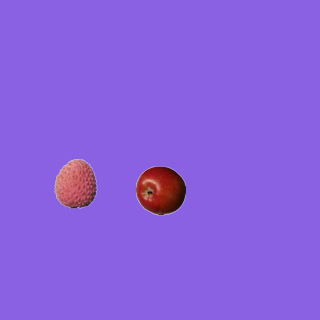Apple Braeburn: (135, 165, 185, 215)
Lychee: (50, 158, 100, 208)
